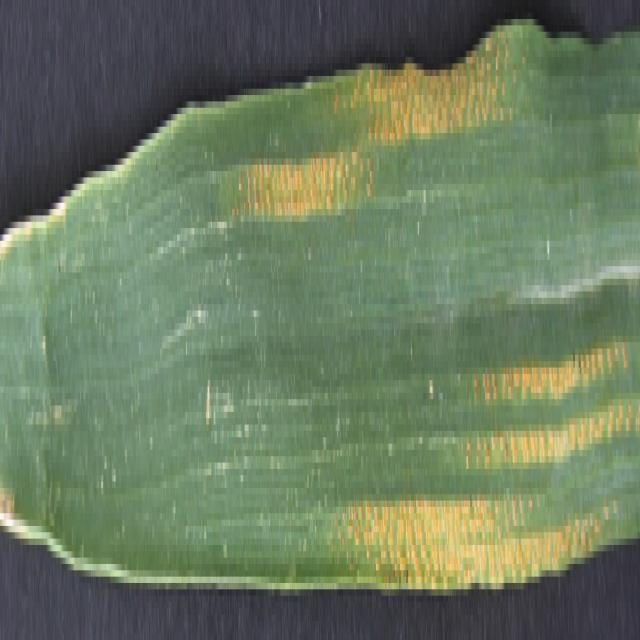leaf rust: (339, 291, 633, 564), (242, 38, 539, 266)
